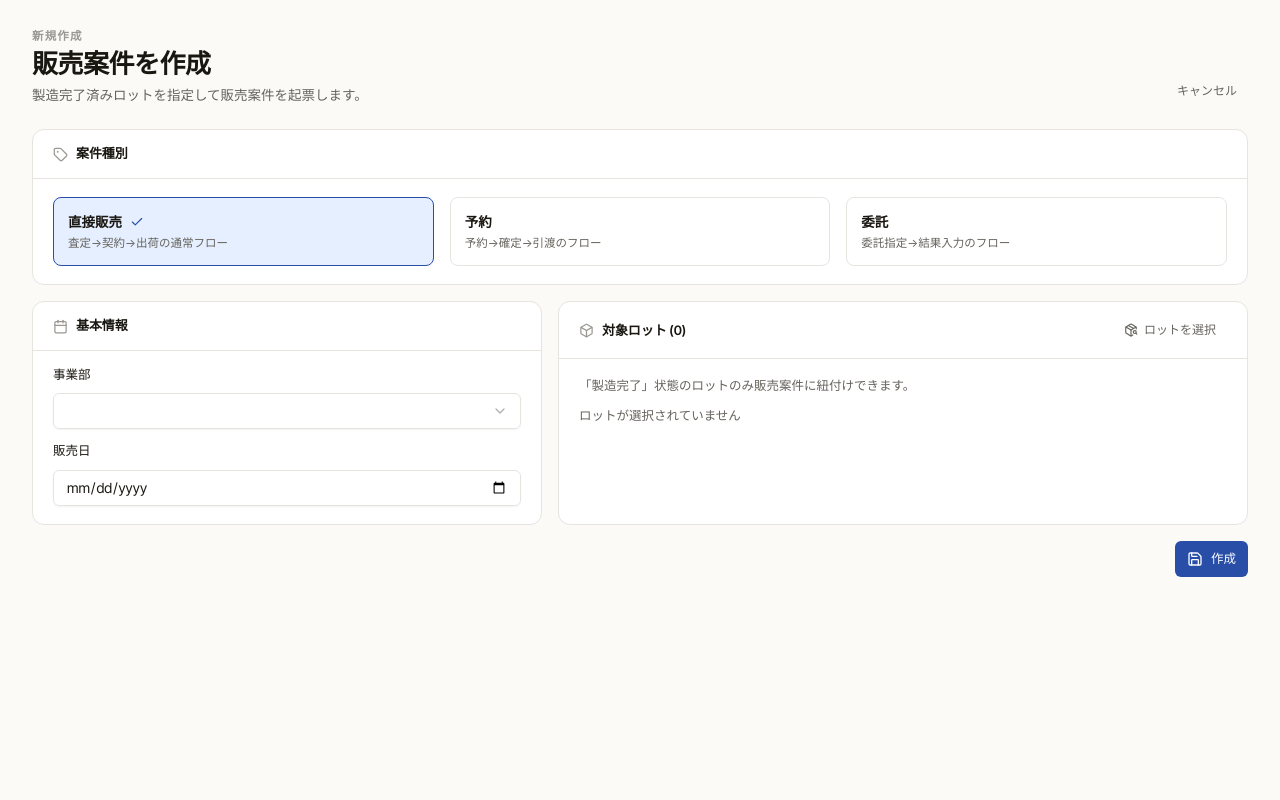
Test: <SalesCaseCreatePage> (FE-PAGE-SALES-CREATE-* / FE-REQ-SALES-CREATE-*) › FE-PAGE-SALES-CREATE-001: lots 空で submit → field 直下に必須エラー、API 未呼出
Type "2026-05-01" into the date field labelled "販売日".
click(287, 488); type("2026-05-01")  # box [53,470,521,506]
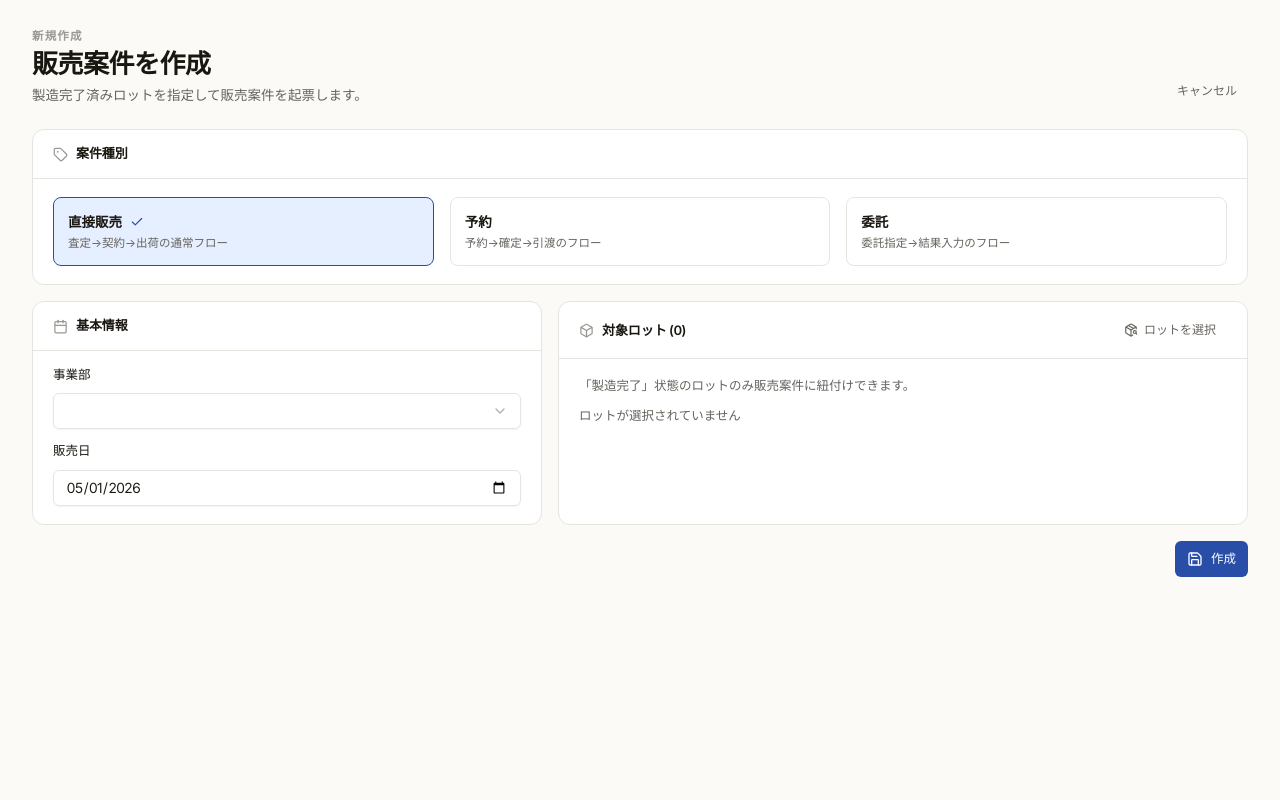
Click the button "作成".
click(1212, 559)  # box [1175,541,1248,577]
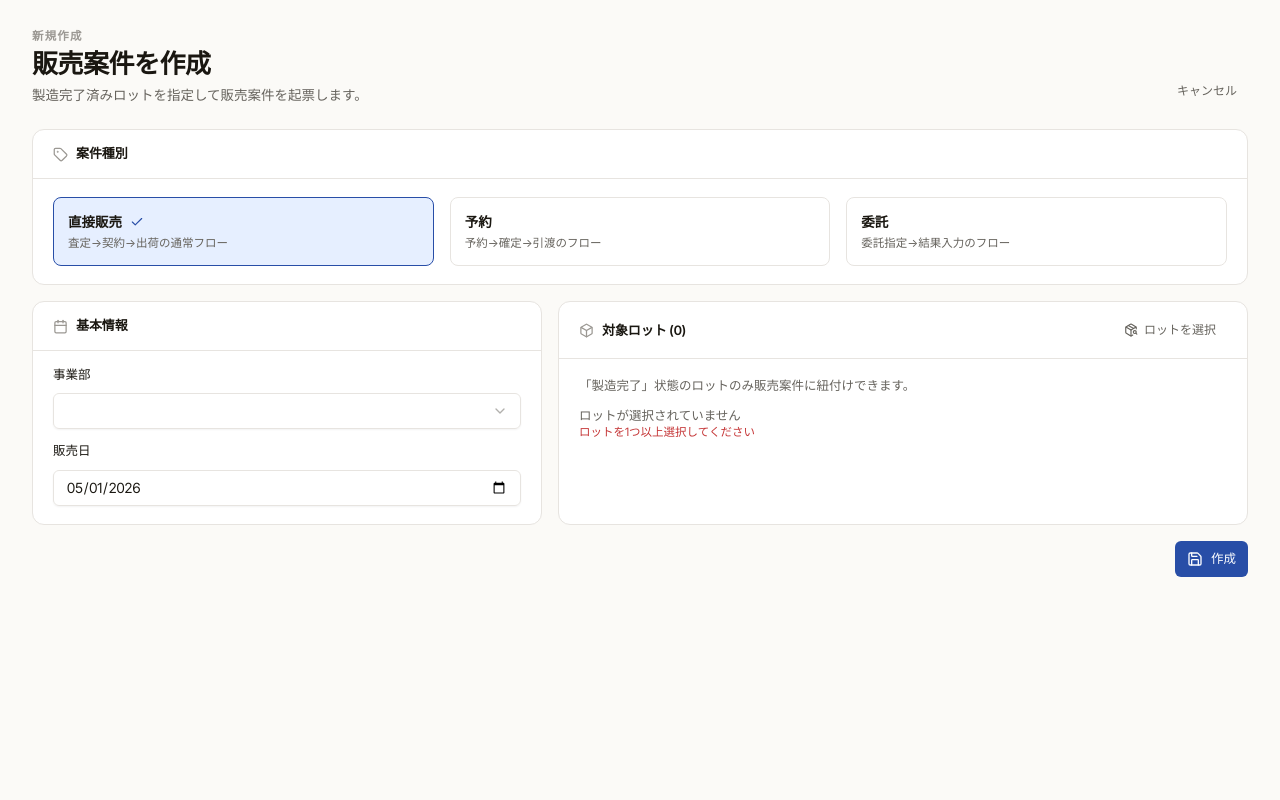
Result: the text "ロットを1つ以上選択してください" is shown at [579,425,755,439]
